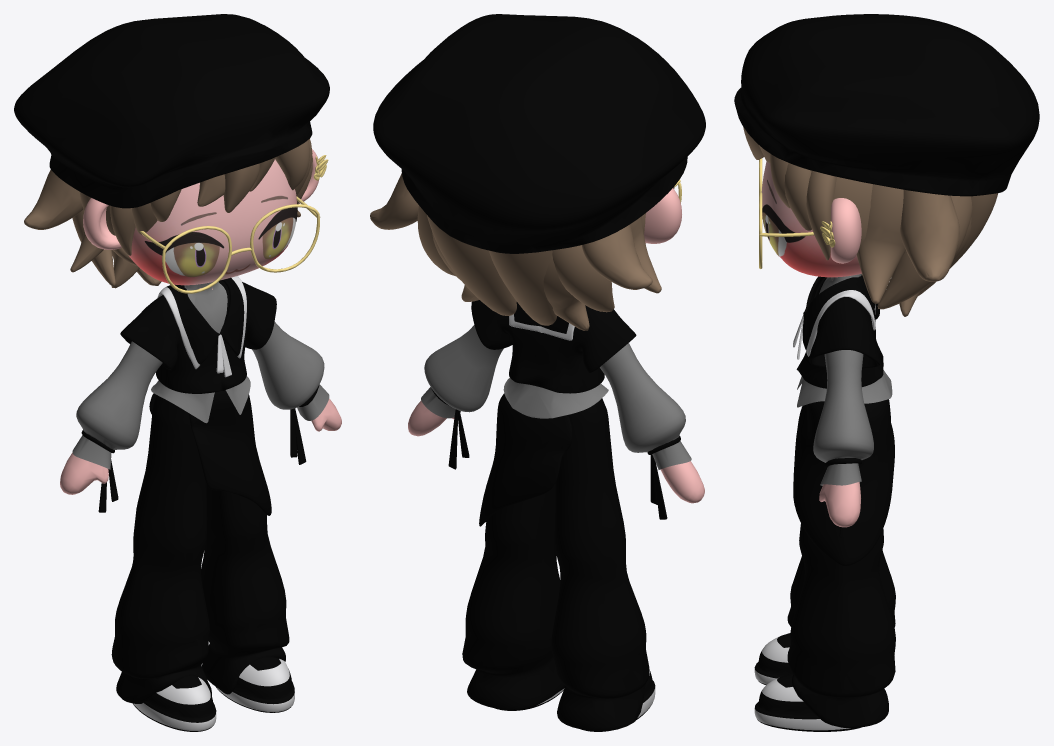
Rendered from katt.glb.
The picture shows the model from 3 angles, left to right: view 1: azimuth 30°, elevation 25°; view 2: azimuth 150°, elevation 25°; view 3: azimuth 270°, elevation 25°; orthographic projection. The views are drawn at different scales.
Parts seen in each view (by area): view 1: 帽子.001, 褲子.007, 內衣.002, 頭.010, 上衣.003, 鞋子.004, 半裙, face.004, 衣領.001, Nurbs路徑.096, 身體, 眼鏡 (+9 smaller); view 2: 帽子.001, 褲子.007, 內衣.002, 上衣.003, 半裙, Nurbs路徑.100, Nurbs路徑.096, Nurbs路徑.092, 身體, Nurbs路徑.099, 耳朵.004, 衣領.001 (+3 smaller); view 3: 帽子.001, 褲子.007, 半裙, 內衣.002, 上衣.003, Nurbs路徑.096, 鞋子.004, Nurbs路徑.097, 頭.010, 衣領.001, Nurbs路徑.092, 耳朵.004 (+7 smaller).
Part boxes in pixels (<box>): 帽子.001: <box>14,14,329,208</box>; 褲子.007: <box>111,395,289,703</box>; 內衣.002: <box>72,282,329,469</box>; 頭.010: <box>128,159,296,285</box>; 上衣.003: <box>120,280,276,393</box>; 鞋子.004: <box>133,657,294,731</box>; 半裙: <box>149,390,271,515</box>; face.004: <box>144,195,297,277</box>; 衣領.001: <box>157,276,246,368</box>; Nurbs路徑.096: <box>24,169,83,229</box>; 身體: <box>60,288,341,494</box>; 眼鏡: <box>162,204,319,293</box>; 帽子.001: <box>373,14,705,253</box>; 褲子.007: <box>462,398,649,730</box>; 內衣.002: <box>421,325,691,469</box>; 上衣.003: <box>471,300,636,393</box>; 半裙: <box>479,393,572,526</box>; Nurbs路徑.100: <box>427,215,556,325</box>; Nurbs路徑.096: <box>370,173,652,289</box>; Nurbs路徑.092: <box>417,205,614,312</box>; 身體: <box>408,400,704,503</box>; Nurbs路徑.099: <box>432,232,589,330</box>; 耳朵.004: <box>644,188,681,243</box>; 衣領.001: <box>509,302,574,340</box>; 帽子.001: <box>734,14,1039,196</box>; 褲子.007: <box>787,523,895,727</box>; 半裙: <box>793,399,894,566</box>; 內衣.002: <box>797,274,892,485</box>; 上衣.003: <box>796,277,883,388</box>; Nurbs路徑.096: <box>900,189,959,281</box>; 鞋子.004: <box>754,633,861,731</box>; Nurbs路徑.097: <box>856,184,905,303</box>; 頭.010: <box>761,161,861,277</box>; 衣領.001: <box>802,275,875,356</box>; Nurbs路徑.092: <box>877,195,972,309</box>; 耳朵.004: <box>831,198,861,263</box>.
Size of the model in its own units: 5.13 by 11.37 by 4.71.
6 materials, 6 textured.
